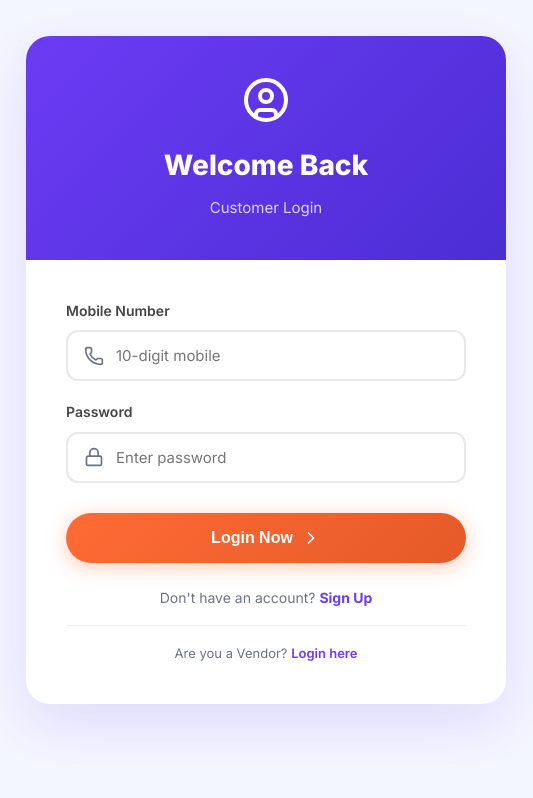
Login › shows error with empty fields
Click the button "Login Now": (266, 538) left=66, top=513, right=466, bottom=563
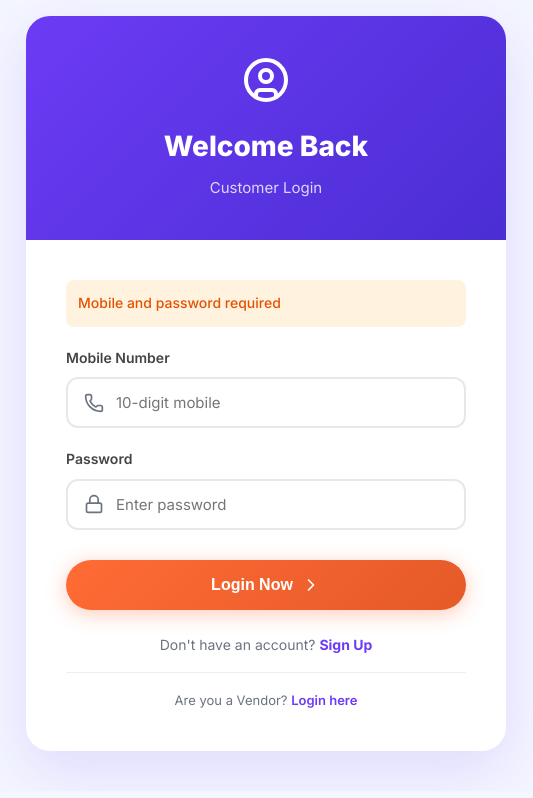
Expected: the text "Mobile and password required" is shown, left=66, top=280, right=466, bottom=327
